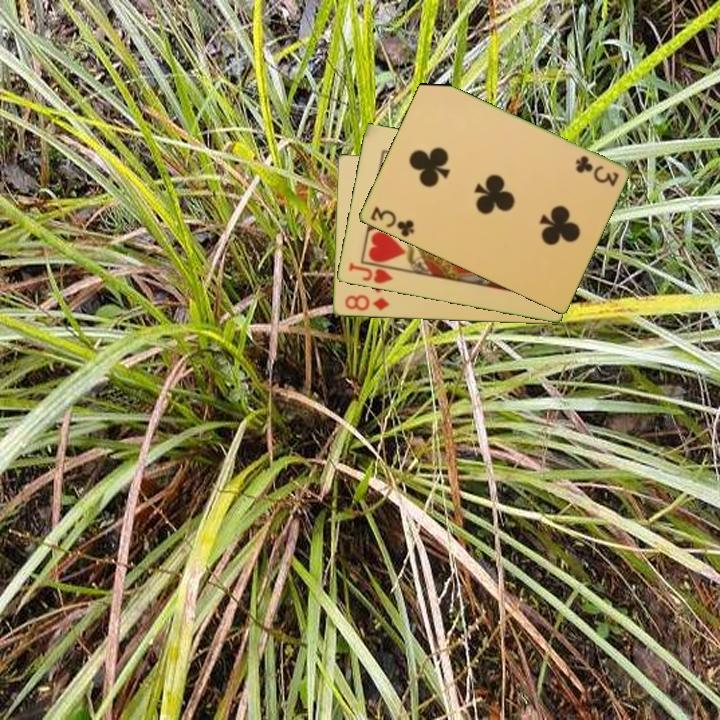3c: (366, 203, 417, 240), (571, 152, 622, 189)
8d: (341, 292, 392, 314)
Jh: (345, 259, 395, 287)
